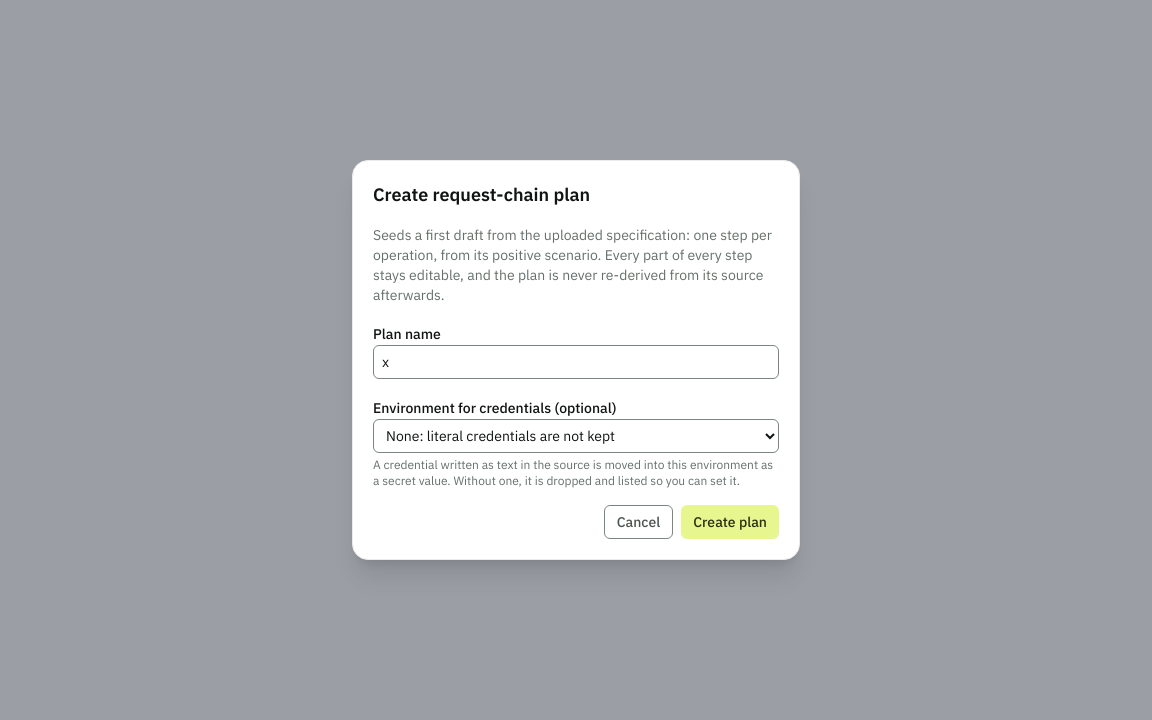
Test: SeedPlanDialog › shows why seeding failed
Click the button "Create plan": point(730, 522) top-left (681, 505), bottom-right (779, 539)
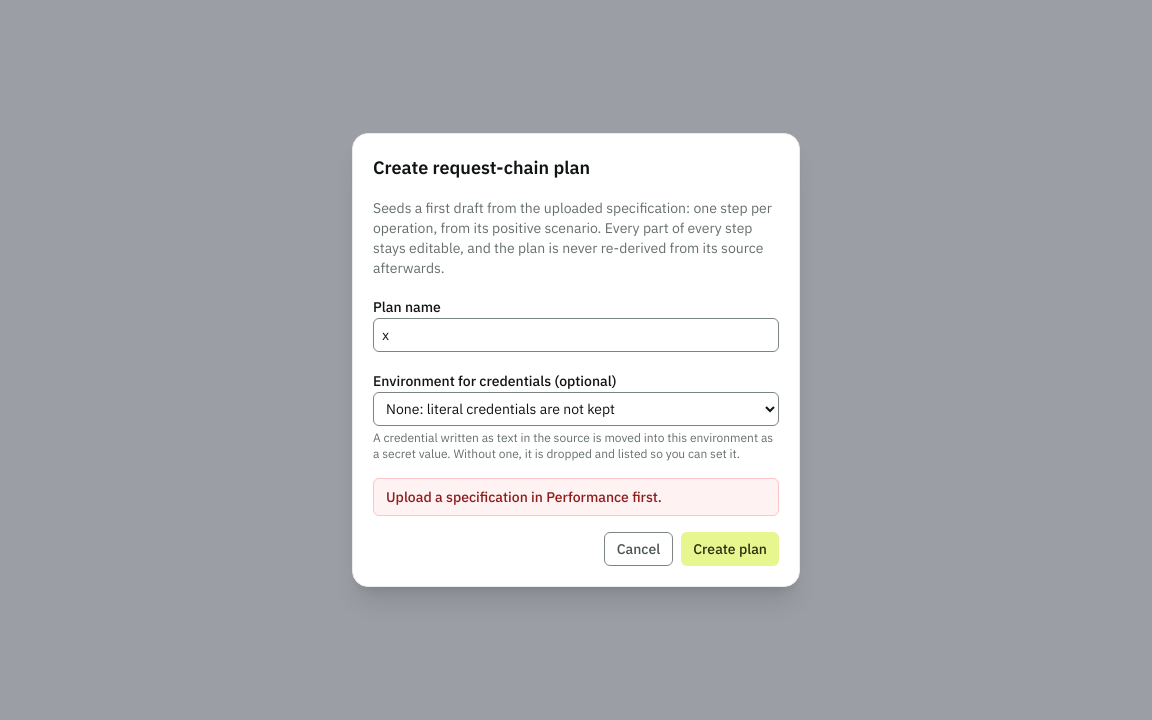
expect the message with test id "seed-plan-error" reads "Upload a specification in Performance first.": met, box top-left (386, 488), bottom-right (662, 506)
